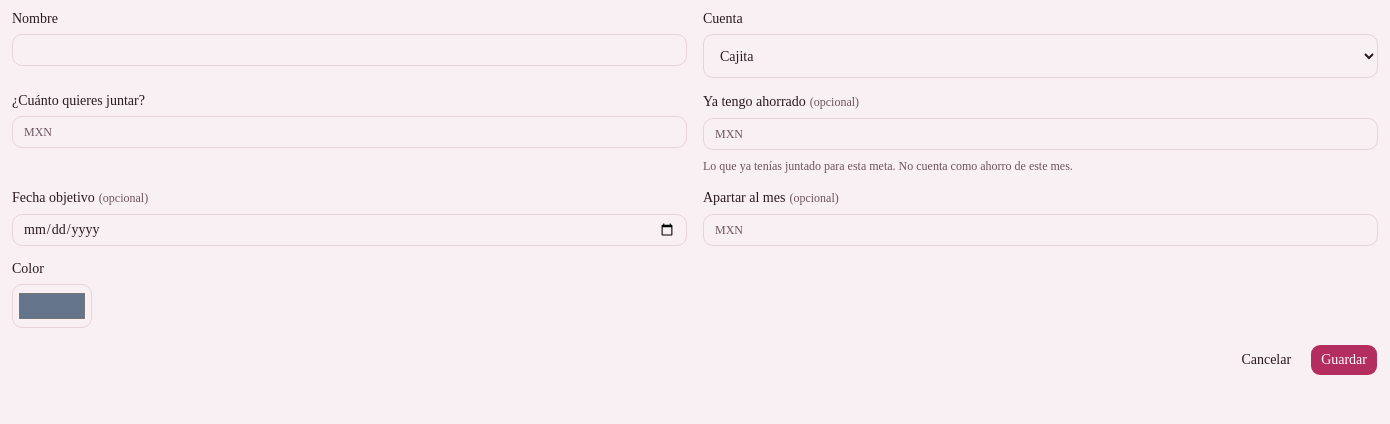
Test: GoalForm › offers the required monthly amount once target and date are set
Type "1200" into the field labelled "¿Cuánto quieres juntar?" at (350, 132), box x1=12 y1=116 x2=687 y2=148
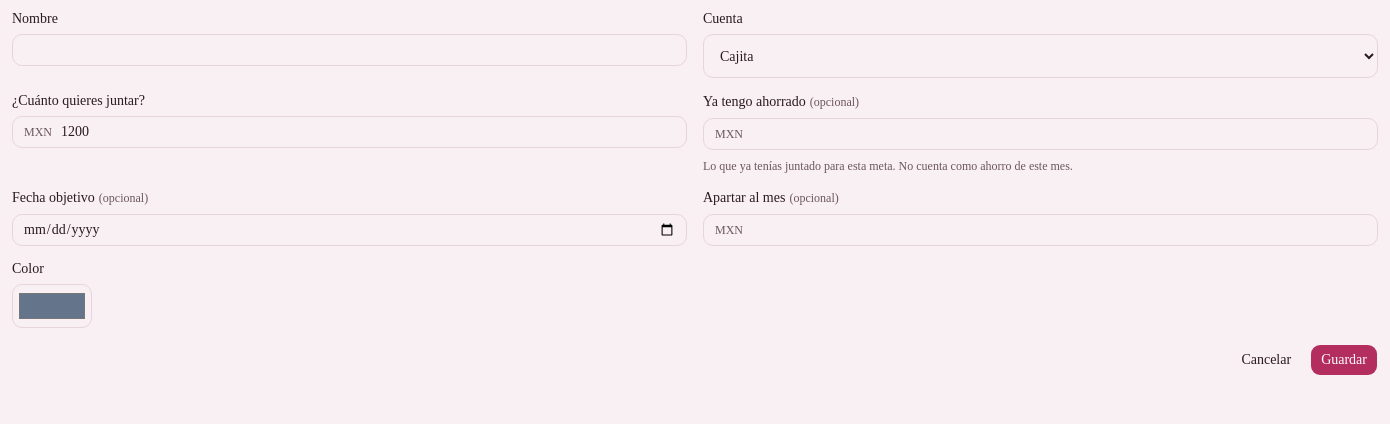
Type "2027-12-31" into the date field labelled "Fecha objetivo" at (350, 230), box x1=12 y1=214 x2=687 y2=246
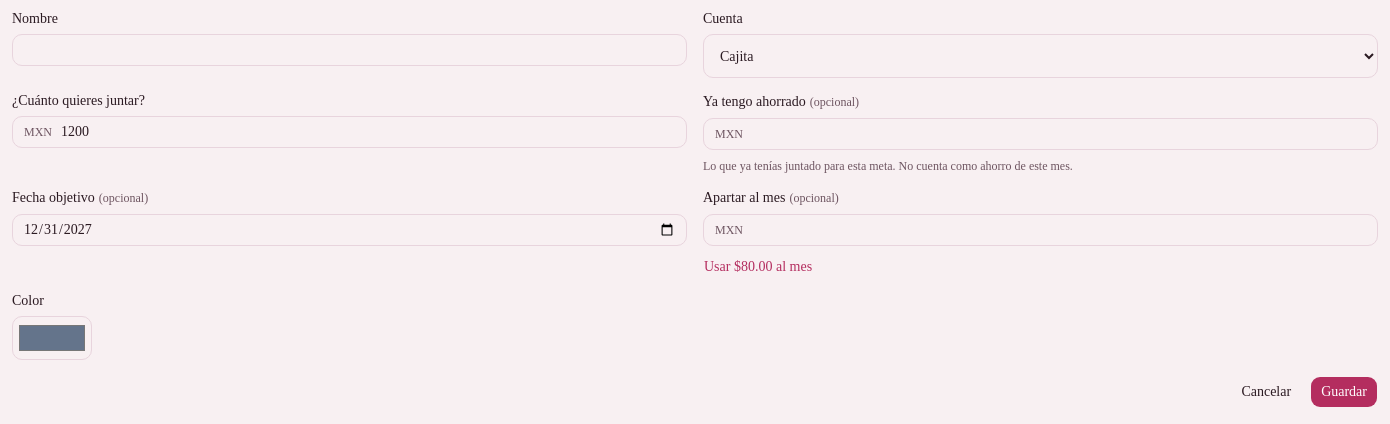
Click the button "Usar $80.00 al mes" at (758, 267), box x1=703 y1=256 x2=813 y2=278
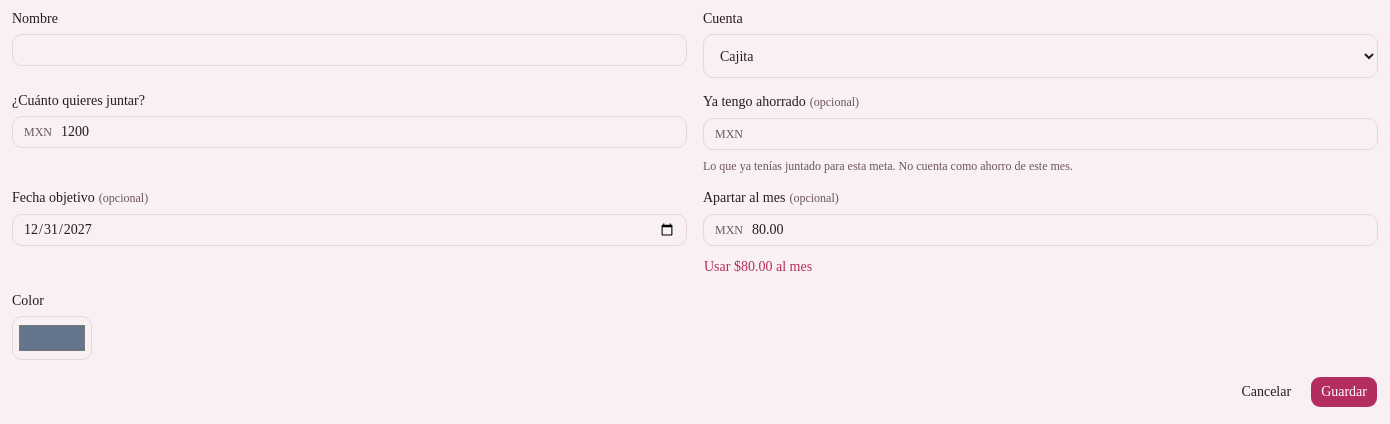
expect the field labelled "Apartar al mes" is not empty: met, box x1=703 y1=214 x2=1378 y2=246
